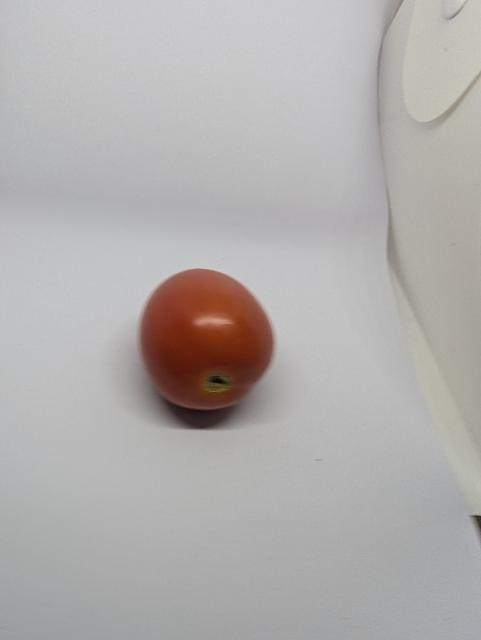red: (131, 257, 289, 434)
